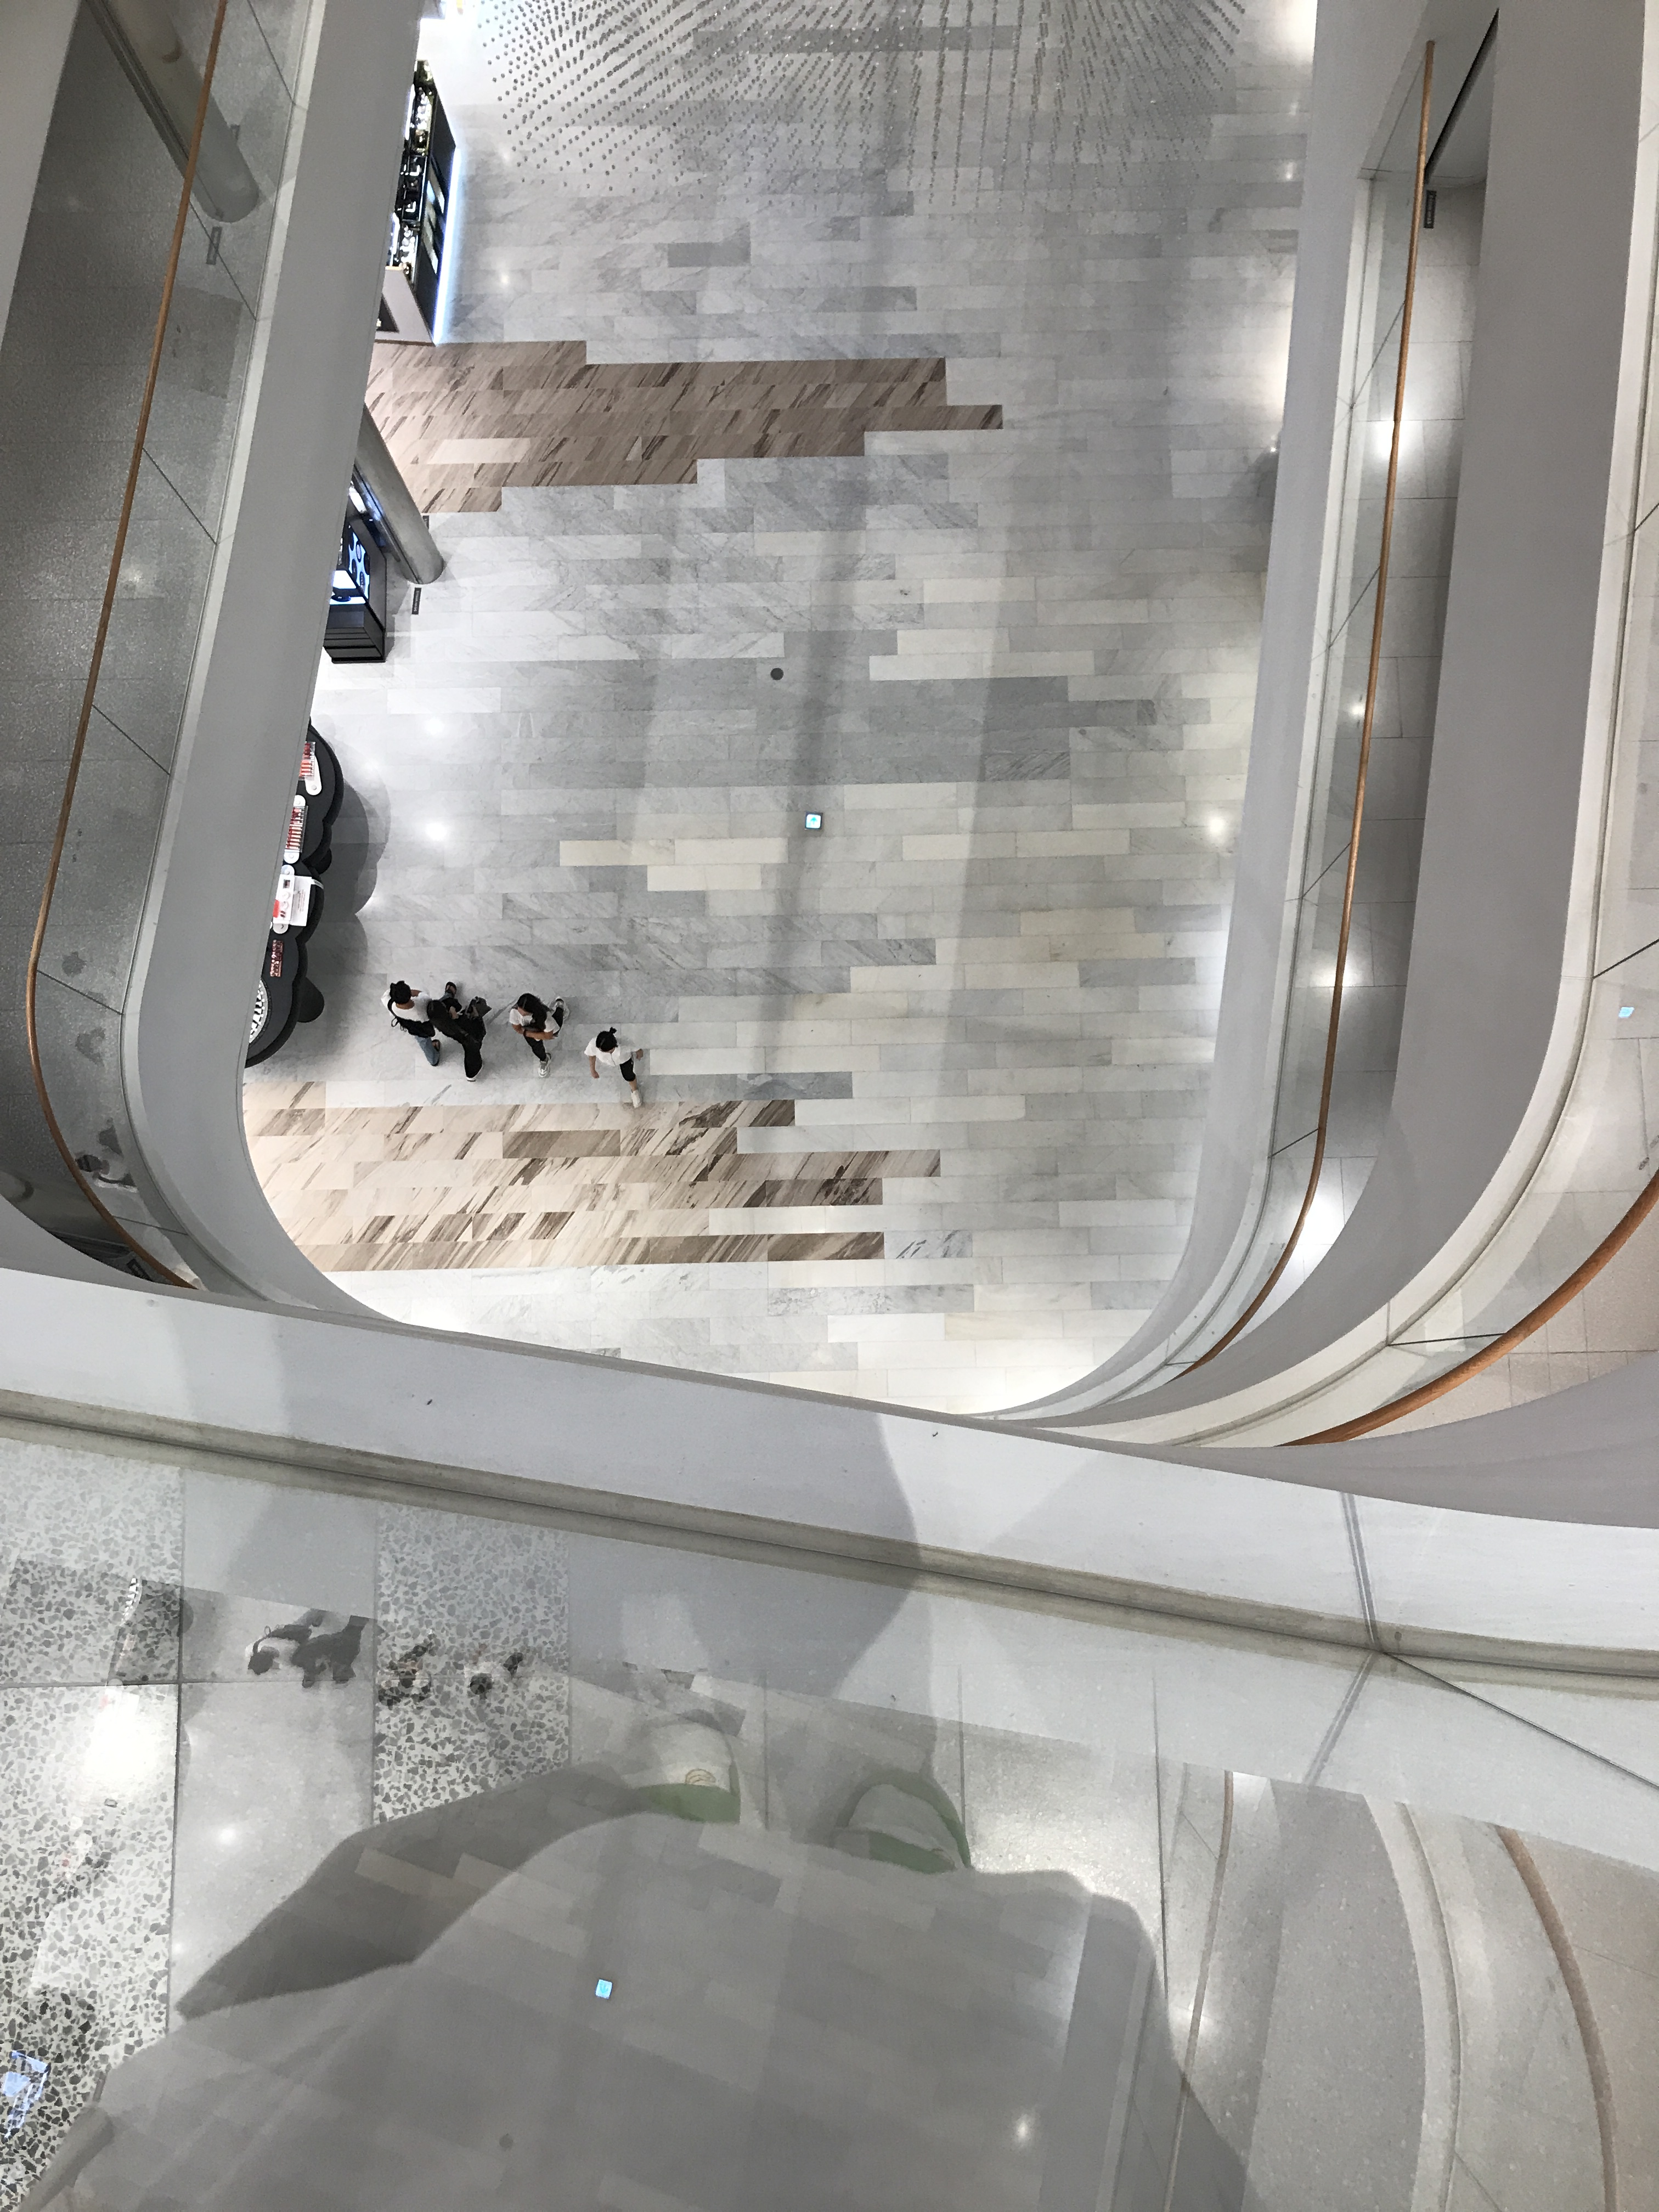person: (380, 977, 456, 1068), (505, 991, 574, 1081), (427, 993, 492, 1084), (583, 1024, 649, 1109)
